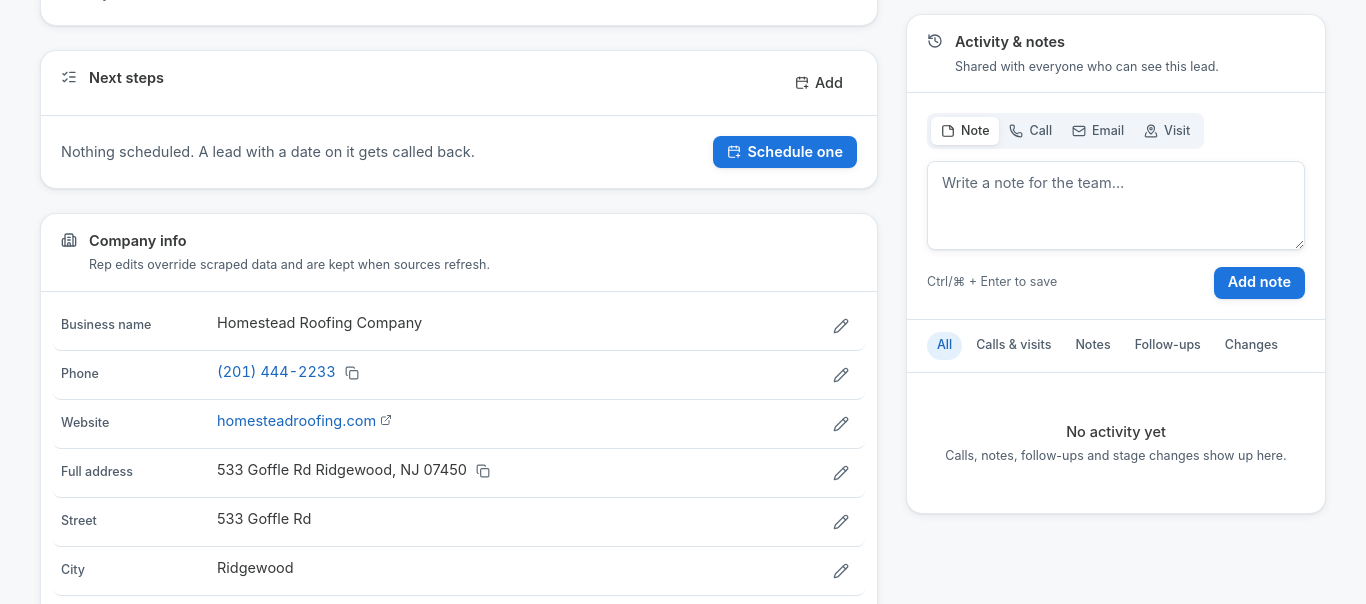
Test: LeadProfilePage › on a 409 shows their value, who and when, and Overwrite retries with the new version
(page scrolled)
Click the button named "Edit phone". click: (841, 375)
box: [825, 359, 857, 391]
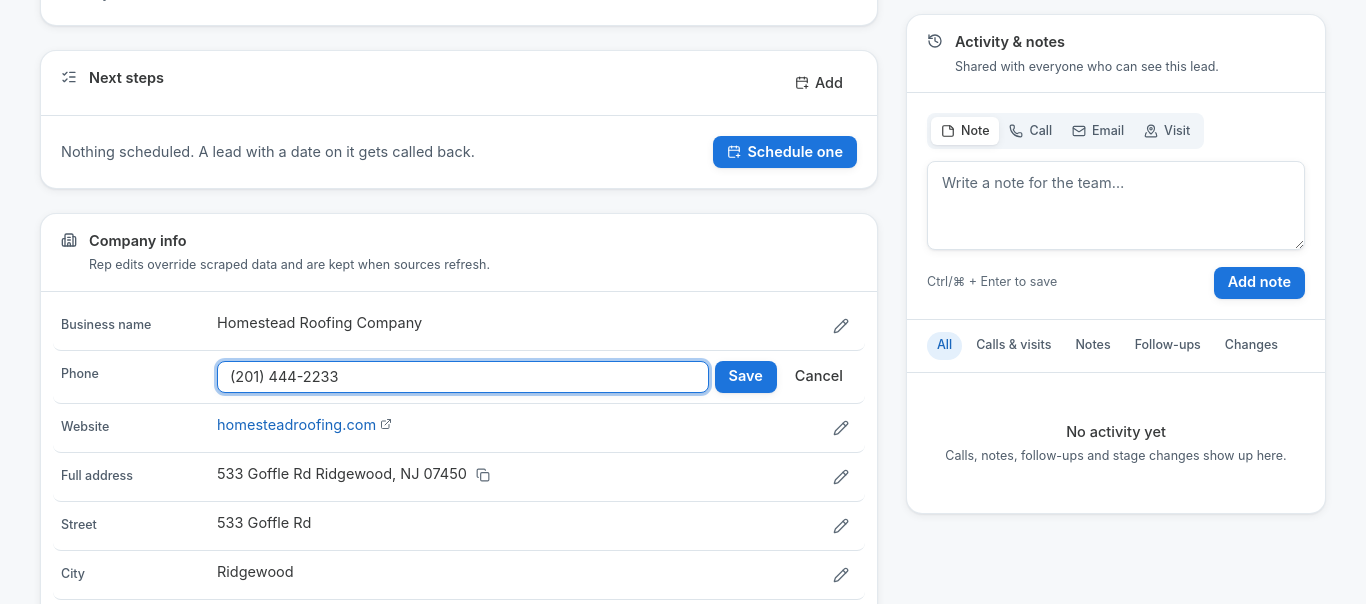
Replace the text in the field named "Phone" with "(917) 555-2222". click: (463, 377)
box: [217, 361, 708, 393]
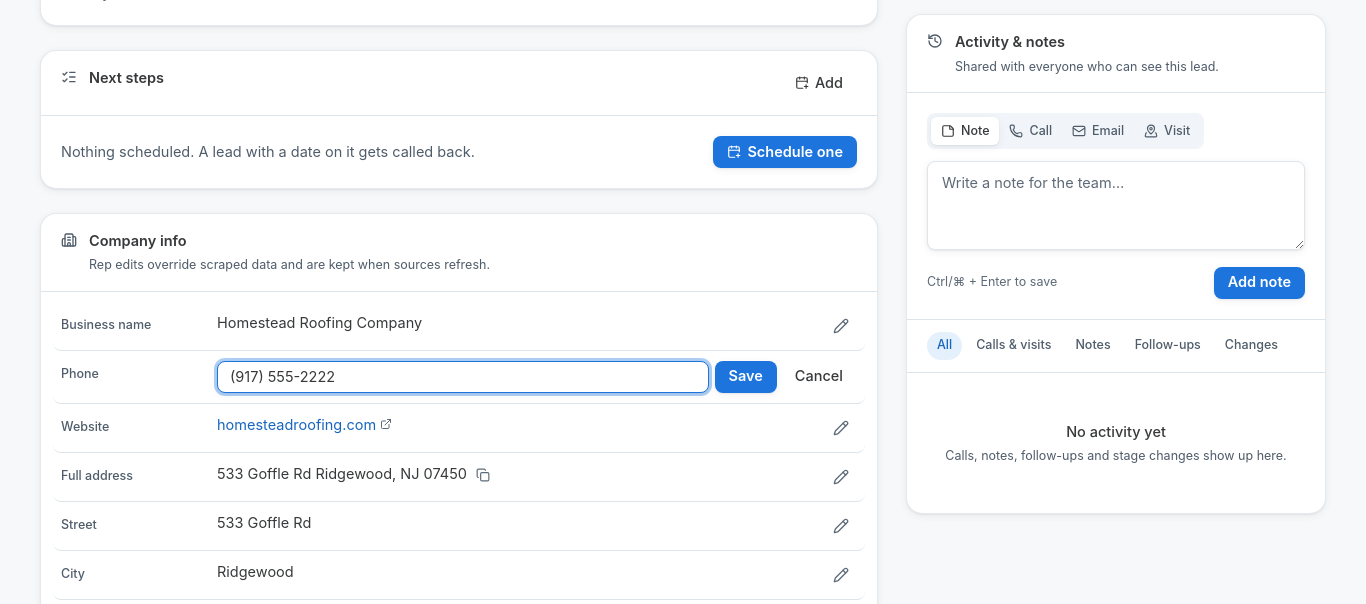
Click the button "Save". click: (746, 377)
box: [714, 361, 777, 393]
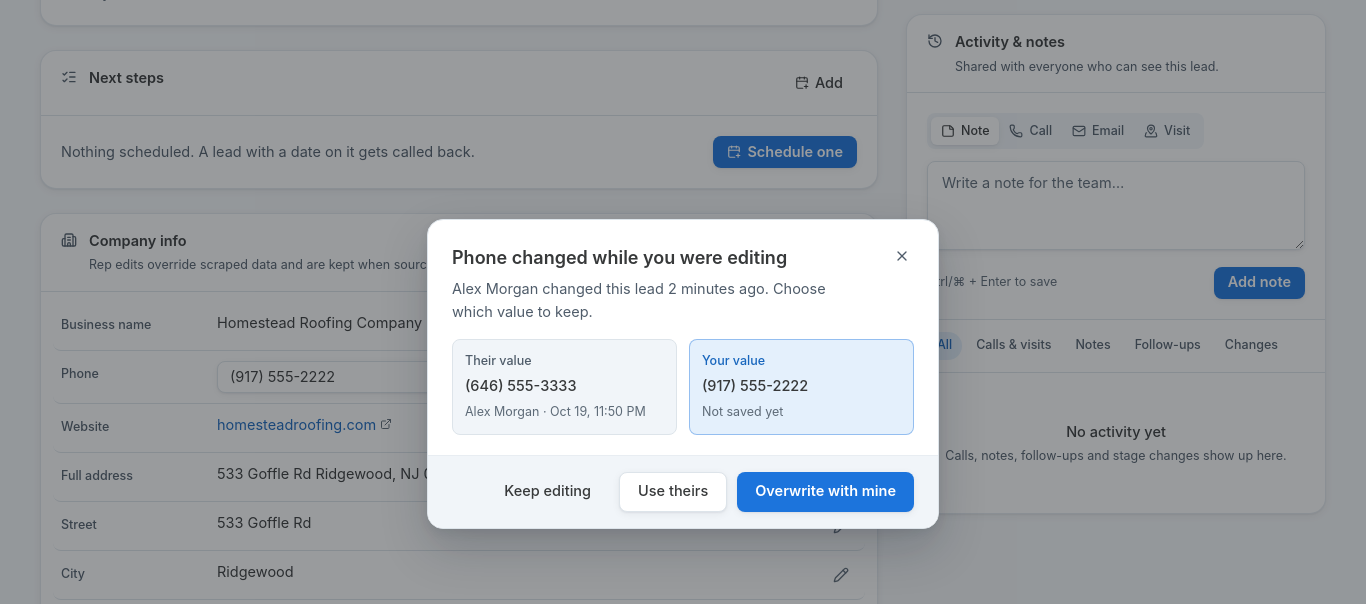
Expected: the dialog "Phone changed while you were editing" shows "Alex Morgan changed this lead 2 minutes ago", [452, 280, 826, 320]
Expected: the text with test id "conflict-theirs" reads "(646) 555-3333", [465, 377, 576, 394]
Expected: the text with test id "conflict-mine" reads "(917) 555-2222", [702, 377, 808, 394]
Click the button "Overwrite with mine". click: (826, 492)
box: [737, 472, 914, 512]
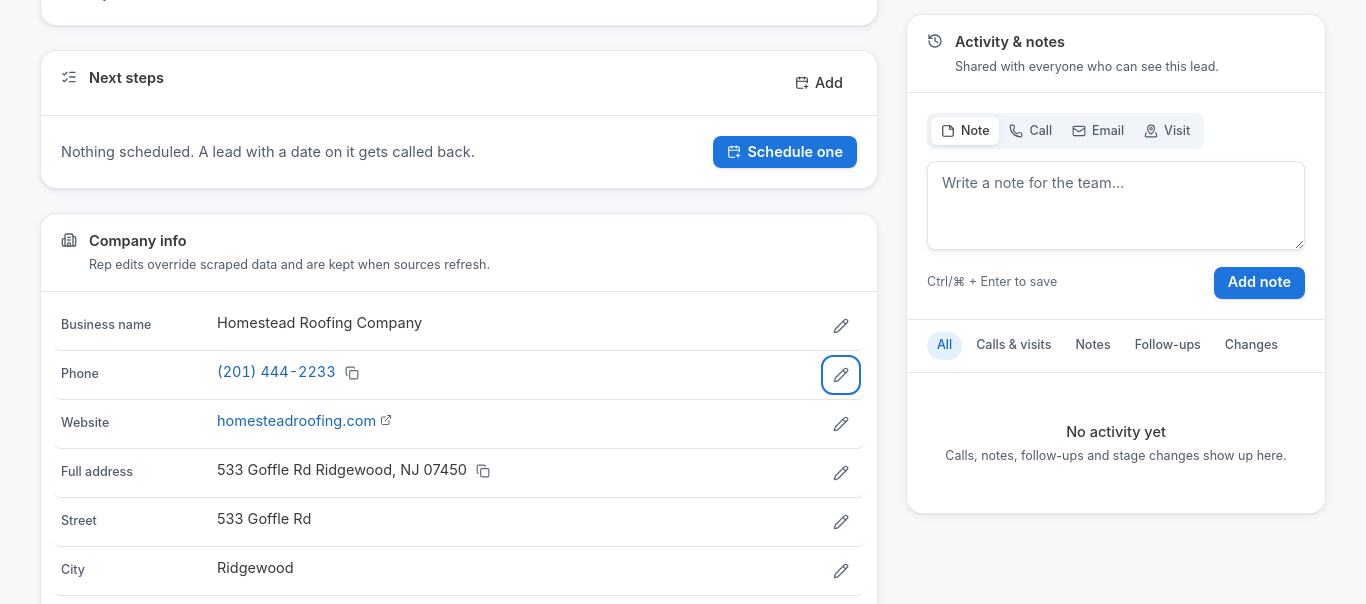
Expected: the dialog is gone
